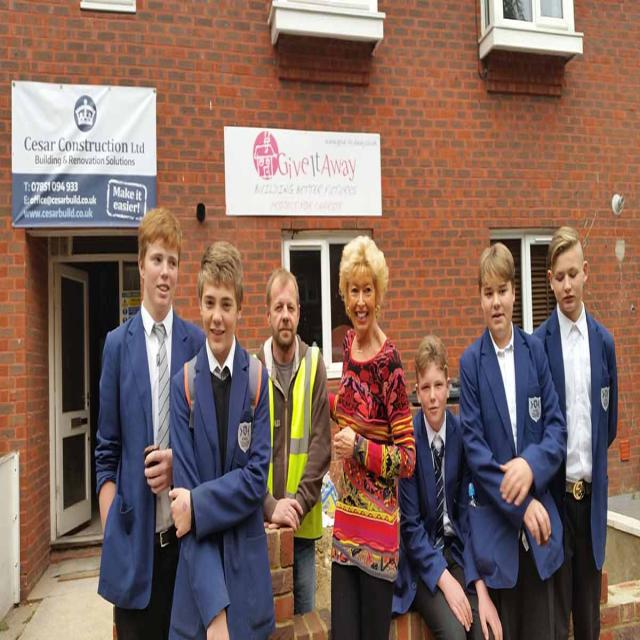body: (92, 206, 207, 640), (167, 238, 277, 640), (458, 242, 569, 640), (322, 234, 415, 636), (528, 225, 618, 639), (396, 333, 504, 640), (250, 265, 334, 619)
